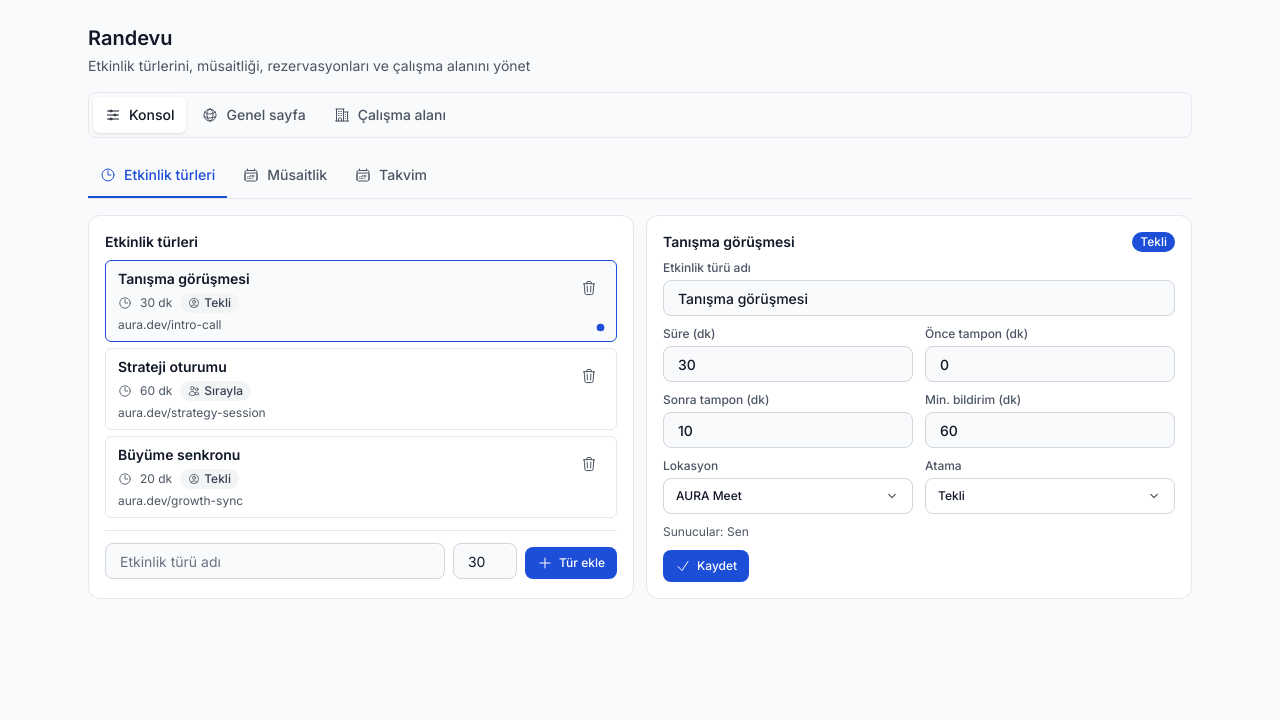
Test: AppointmentsPage › switches to availability tab without crashing
Click the tab "Müsaitlik": (285, 176) [231,154,339,198]
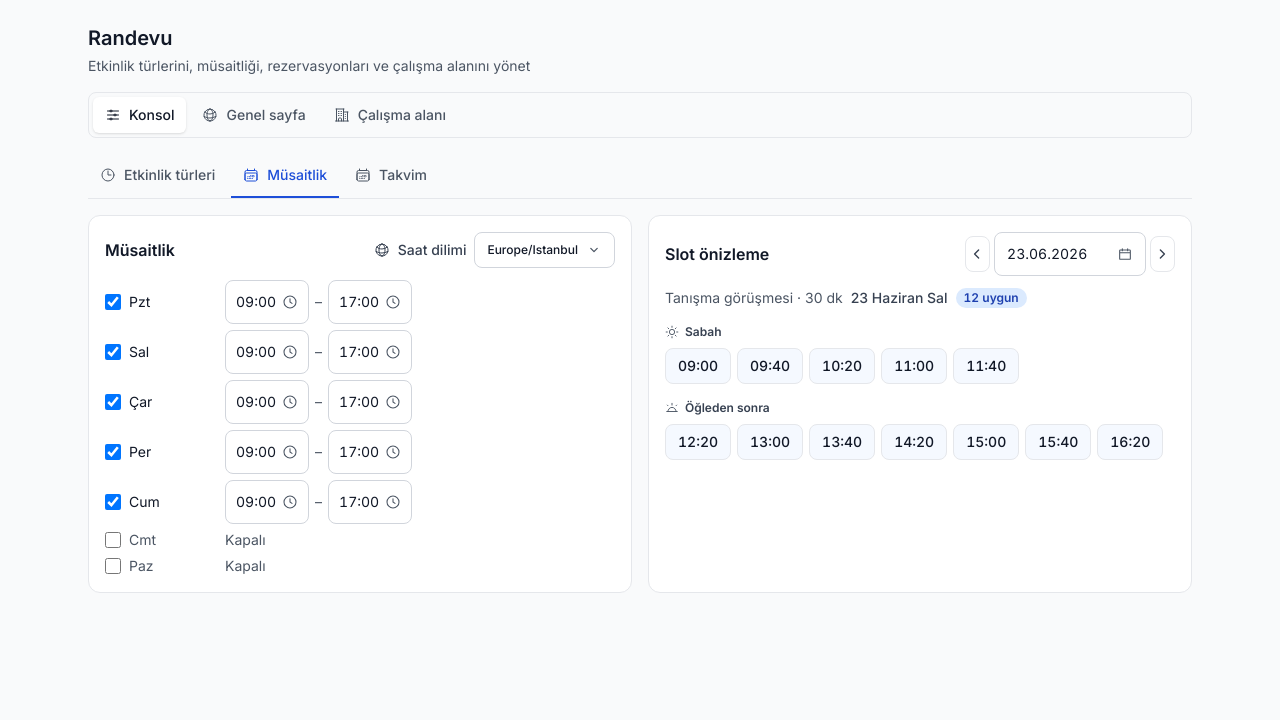
Result: the text "Pzt" is shown at [129,292,150,312]
